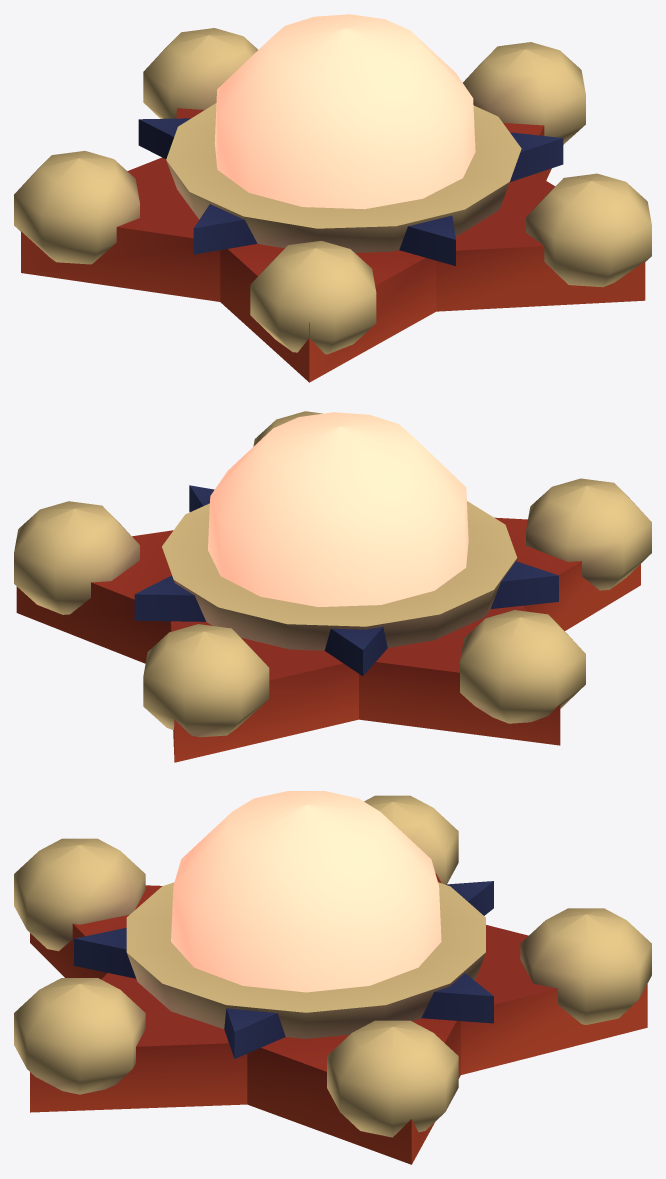
The model's file is R4D_ExplosiveTrap_LOD1.fbx.
The picture shows the model from 3 angles, top to bottom: view 1: azimuth 30°, elevation 25°; view 2: azimuth 150°, elevation 25°; view 3: azimuth 270°, elevation 25°; orthographic projection. The views are drawn at different scales.
Visible parts, largest first — view 1: R4D_ExplosiveTrap_LOD1; view 2: R4D_ExplosiveTrap_LOD1; view 3: R4D_ExplosiveTrap_LOD1.
Part boxes in pixels (<box>): R4D_ExplosiveTrap_LOD1: <box>14,14,651,382</box>; R4D_ExplosiveTrap_LOD1: <box>14,411,651,762</box>; R4D_ExplosiveTrap_LOD1: <box>14,791,651,1164</box>.
Size of the model in its own units: 0.4839 by 0.18 by 0.4673.
